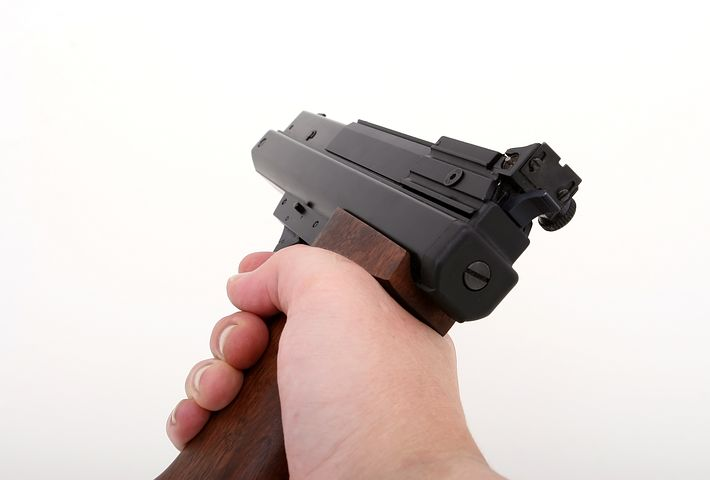gun: (136, 102, 583, 471)
